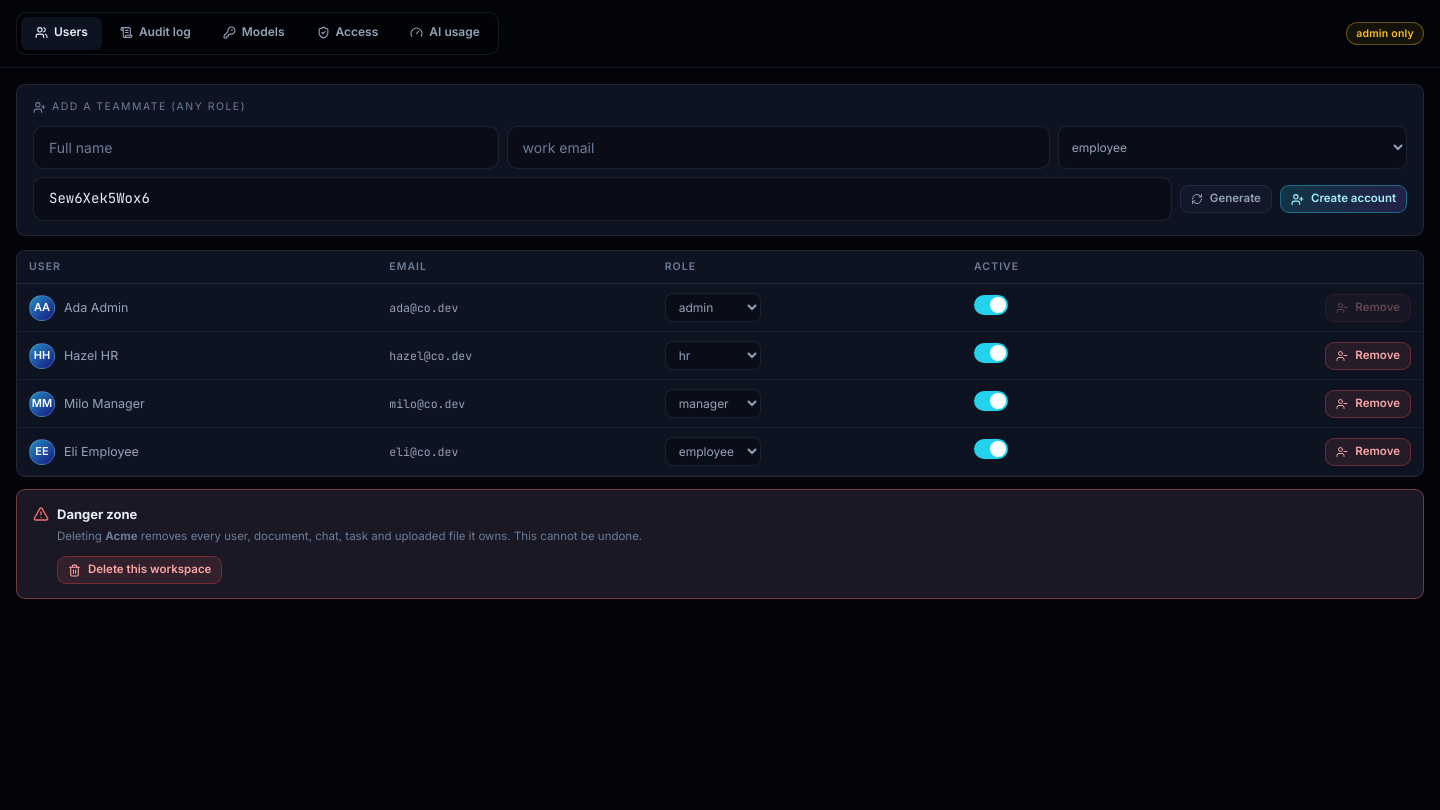
the confirmation › promises the audit trail survives
What coordinates should you click on to do the following:
click the button "Remove" in the row of "Eli Employee"
I would click on:
 (1368, 452)
Its box is 1325,438 -> 1411,466.
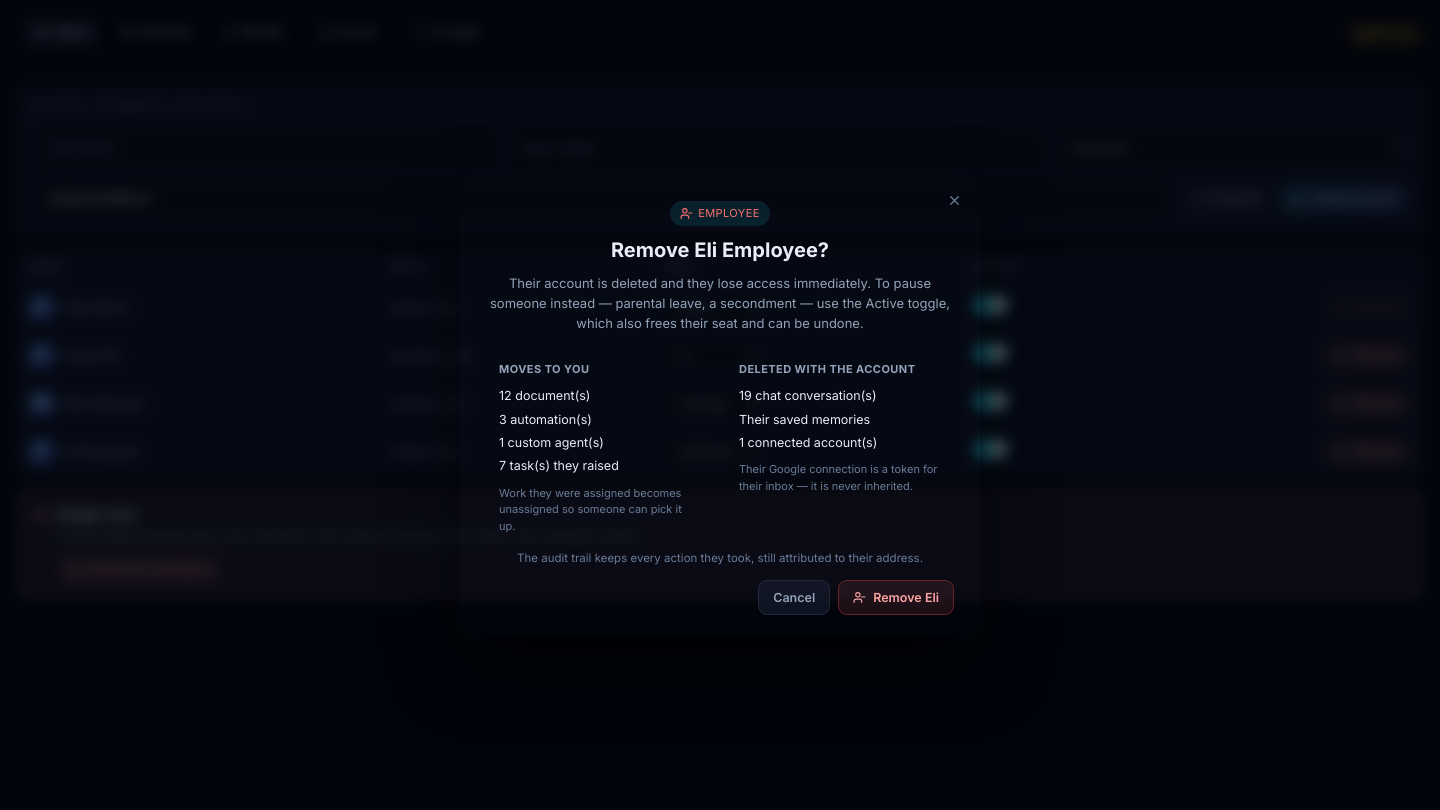
Check: the element with test id "remove-dialog" shows "audit trail keeps every action", box 517,551 -> 923,565
